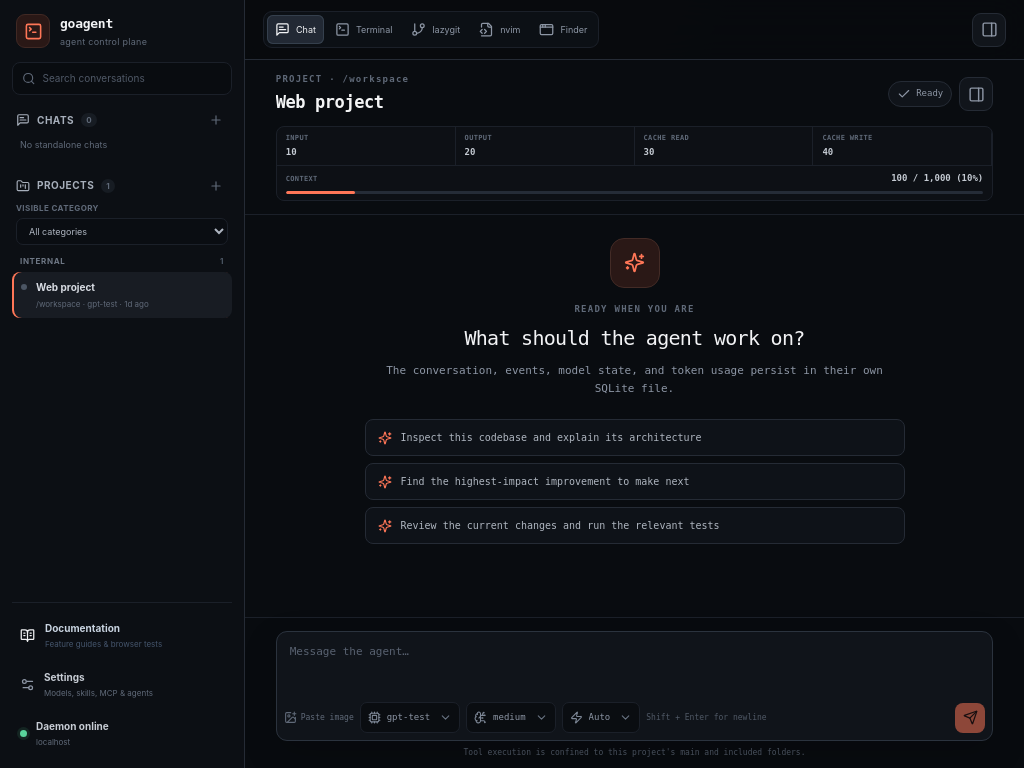
Test case: capability commands › executes an extension command and reports output plus a queued prompt
(page scrolled)
Expected: the text box labelled "Message the agent" is shown, [277, 632, 992, 697]
Step 1. Click the 1st button named "Open conversation details" → x=989, y=30, box [972, 12, 1006, 46]
(page scrolled)
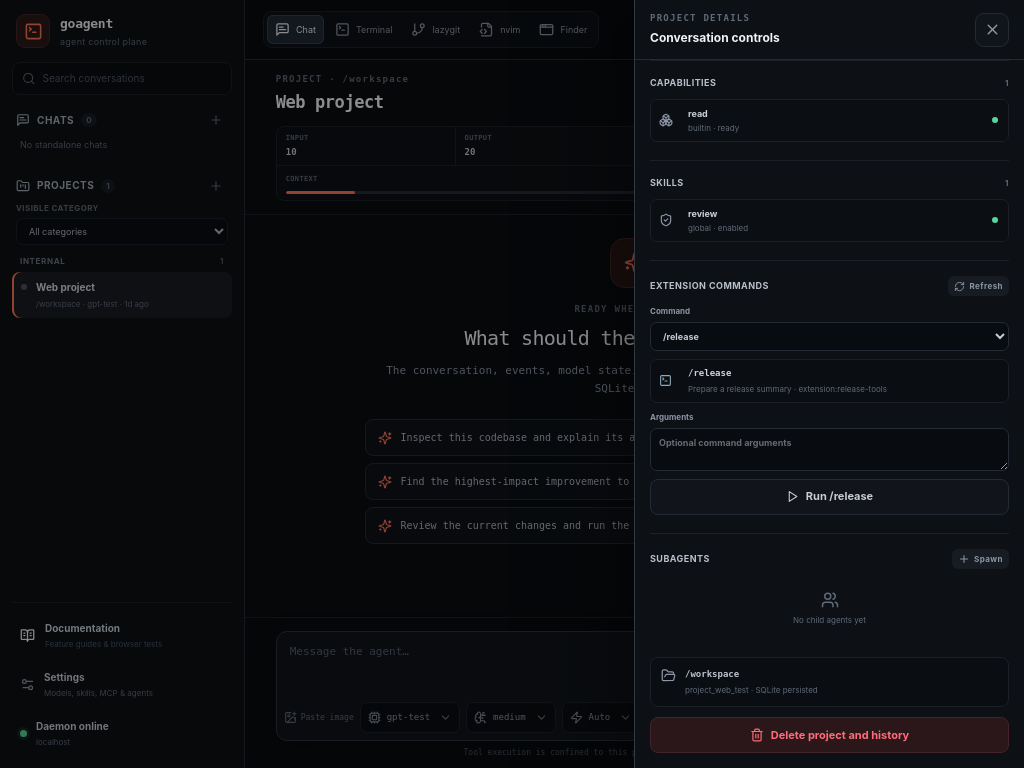
Step 2. Type "v2.0 --draft" into the text box named "Arguments for /release" → x=830, y=449, box [650, 428, 1009, 471]
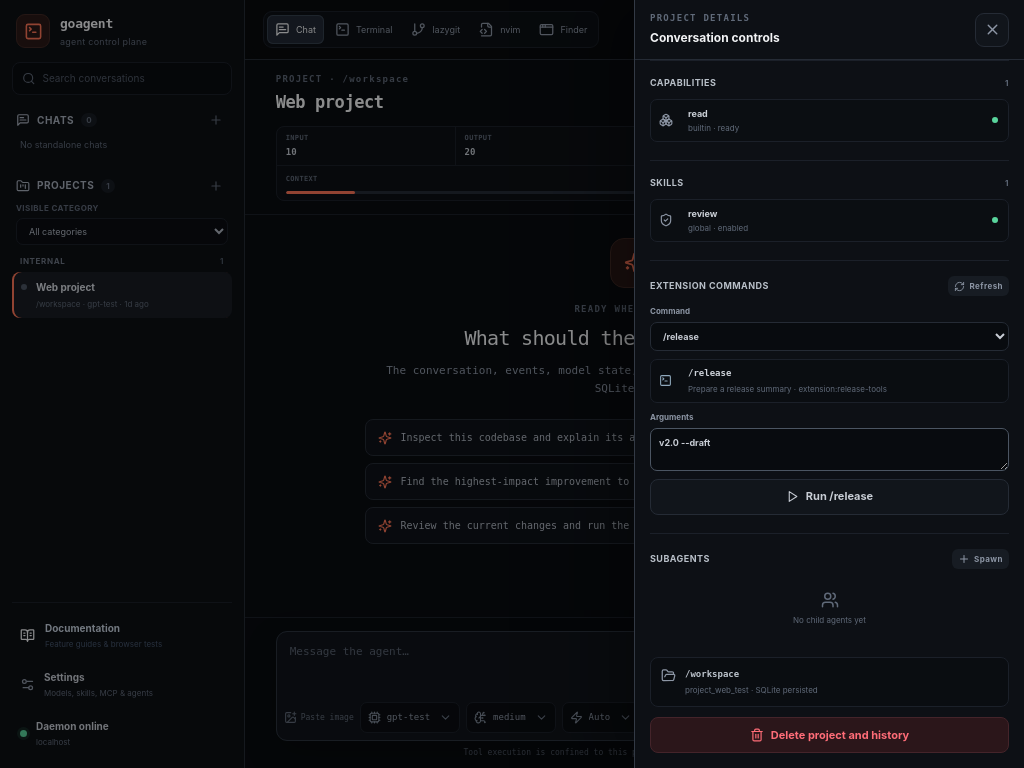
Step 3. Click the button "Run /release" → x=830, y=497, box [650, 479, 1009, 515]
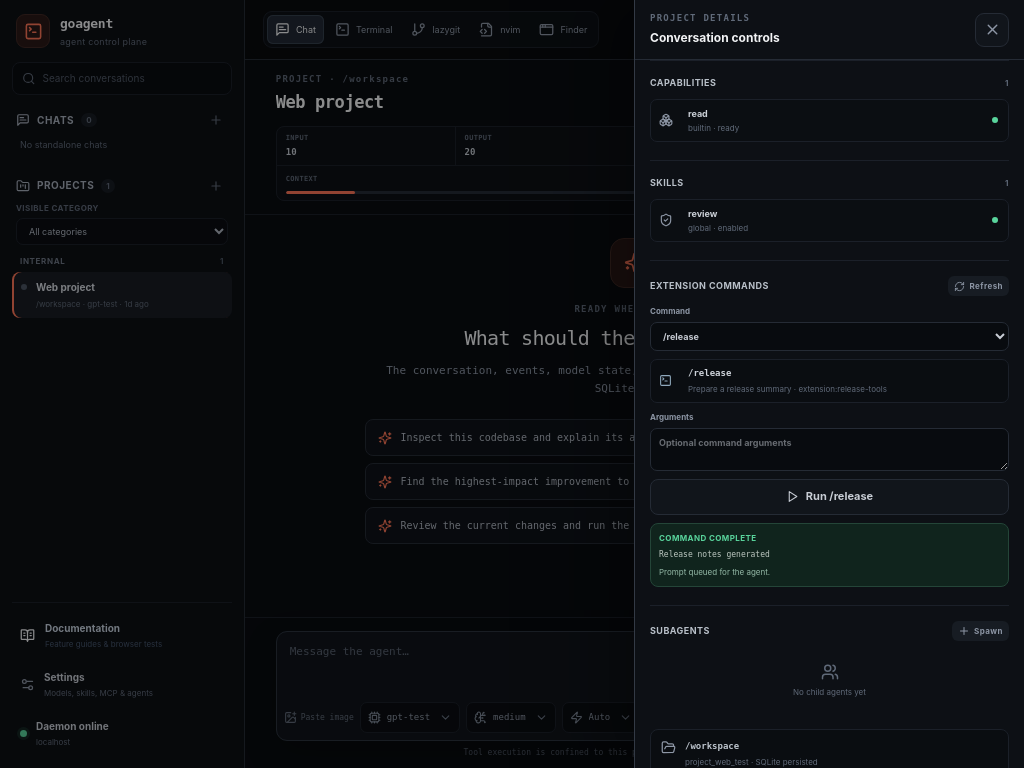
Expected: the text "Release notes generated" is shown, [659, 550, 770, 559]
Expected: the text "Prompt queued for the agent." is shown, [659, 567, 770, 577]
